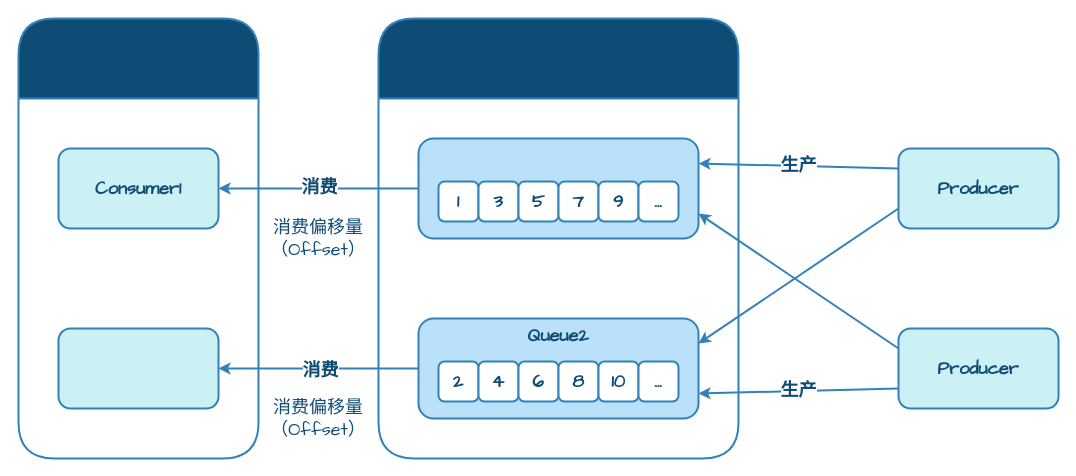
Some shapes in this 1076 by 476 pixel diagram are drawn without their labels. Here are the shapes that lost their labels. From the top down, the box of each, then its label:
(417, 137, 699, 239): Queue1
(17, 17, 259, 459): Consumer Group
(377, 17, 739, 459): Topic
(57, 327, 219, 409): Consumer2
